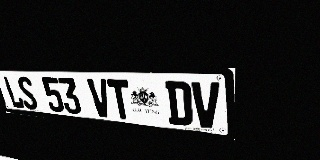3: (57, 77, 82, 115)
5: (41, 77, 66, 113)
D: (165, 81, 193, 126)
L: (2, 76, 25, 109)
S: (16, 76, 39, 110)
T: (107, 79, 133, 120)
V: (191, 81, 220, 129), (87, 78, 113, 118)
